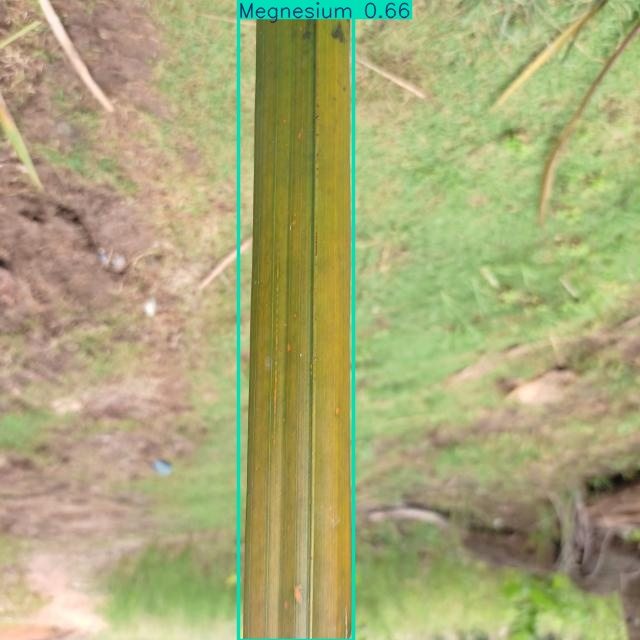Megnesium: (239, 0, 354, 640)
